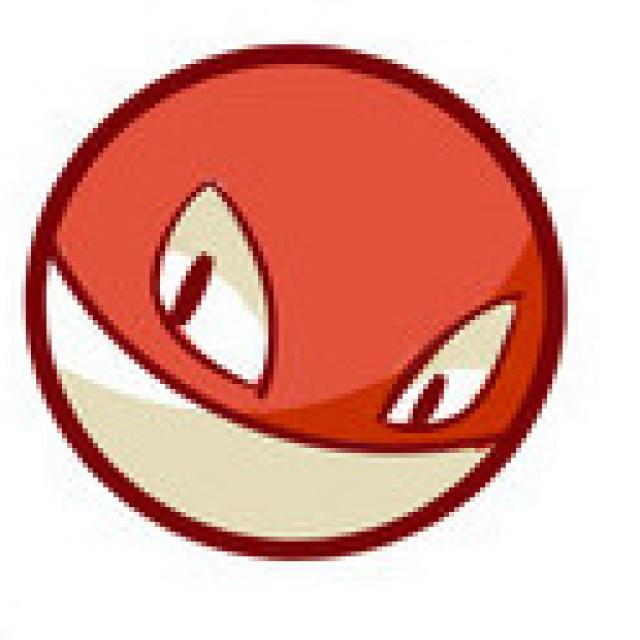Voltorb: (24, 41, 568, 560)
